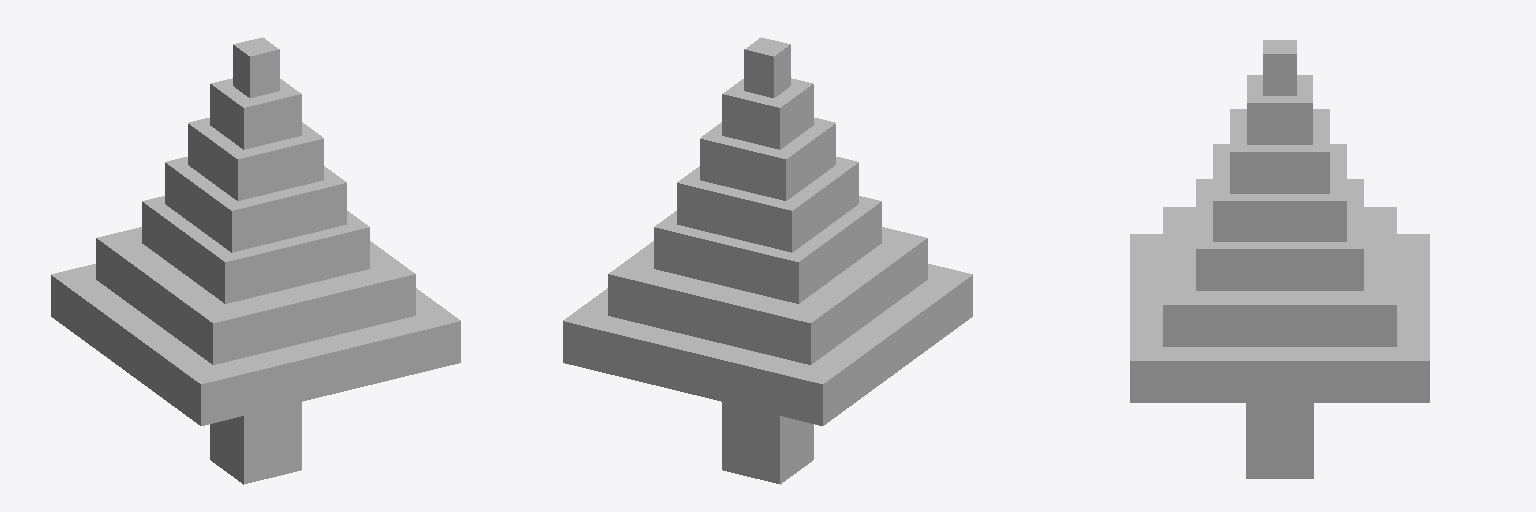
Rendered from Tree.obj.
3 views of the same model, side by side, from view 1: azimuth 30°, elevation 25°; view 2: azimuth 150°, elevation 25°; view 3: azimuth 270°, elevation 25° (orthographic).
Parts seen in each view (by area): view 1: Box001; view 2: Box001; view 3: Box001.
Part boxes in pixels (x1,y1,x2,y2): Box001: (51, 37, 460, 484); Box001: (563, 37, 972, 484); Box001: (1130, 40, 1429, 478).
Size of the model in its own units: 1.5 by 2.29 by 1.5.